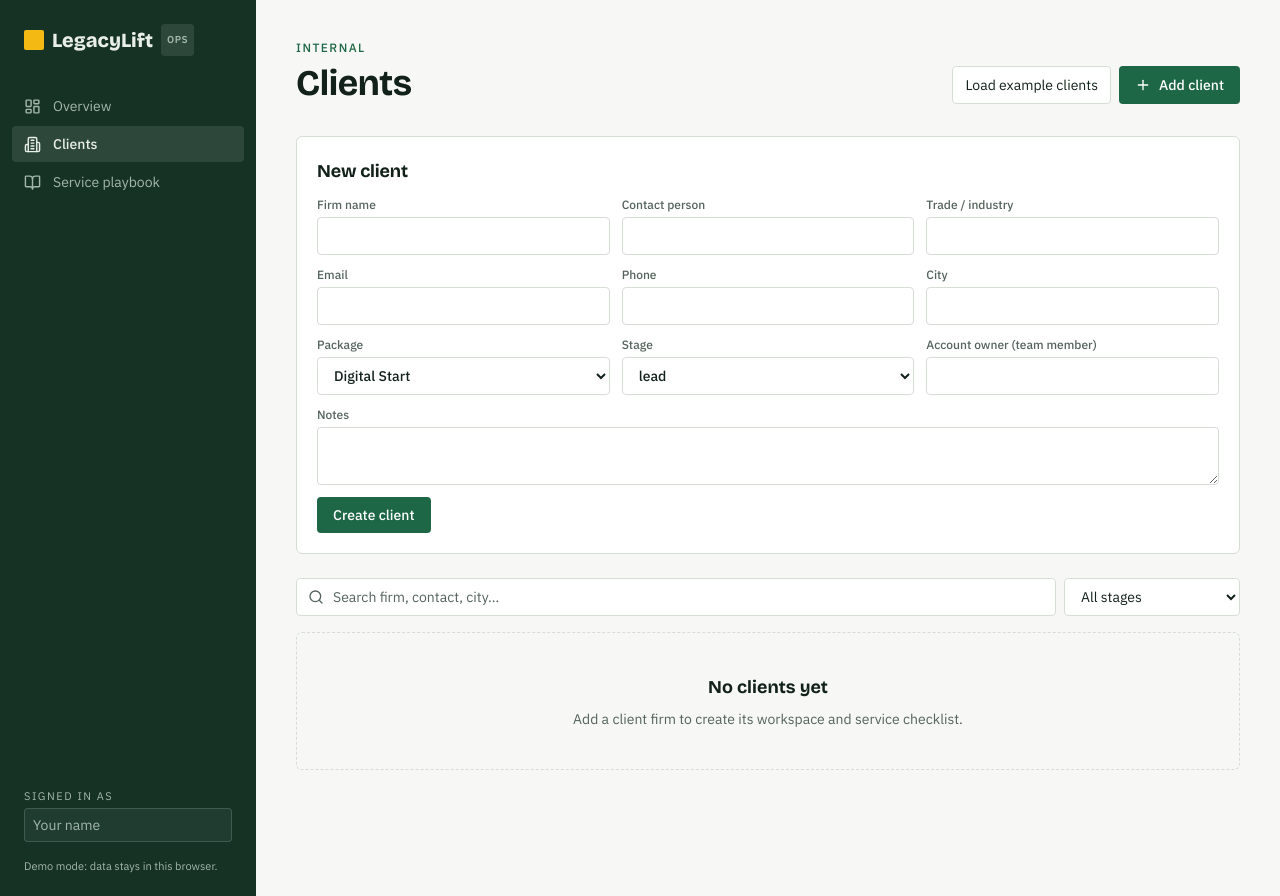
Test: operations console › keeps each client's data in its own workspace
Type "Uhrmacher Klein" into the field labelled "Firm name" at (463, 236), box x1=317 y1=217 x2=610 y2=255
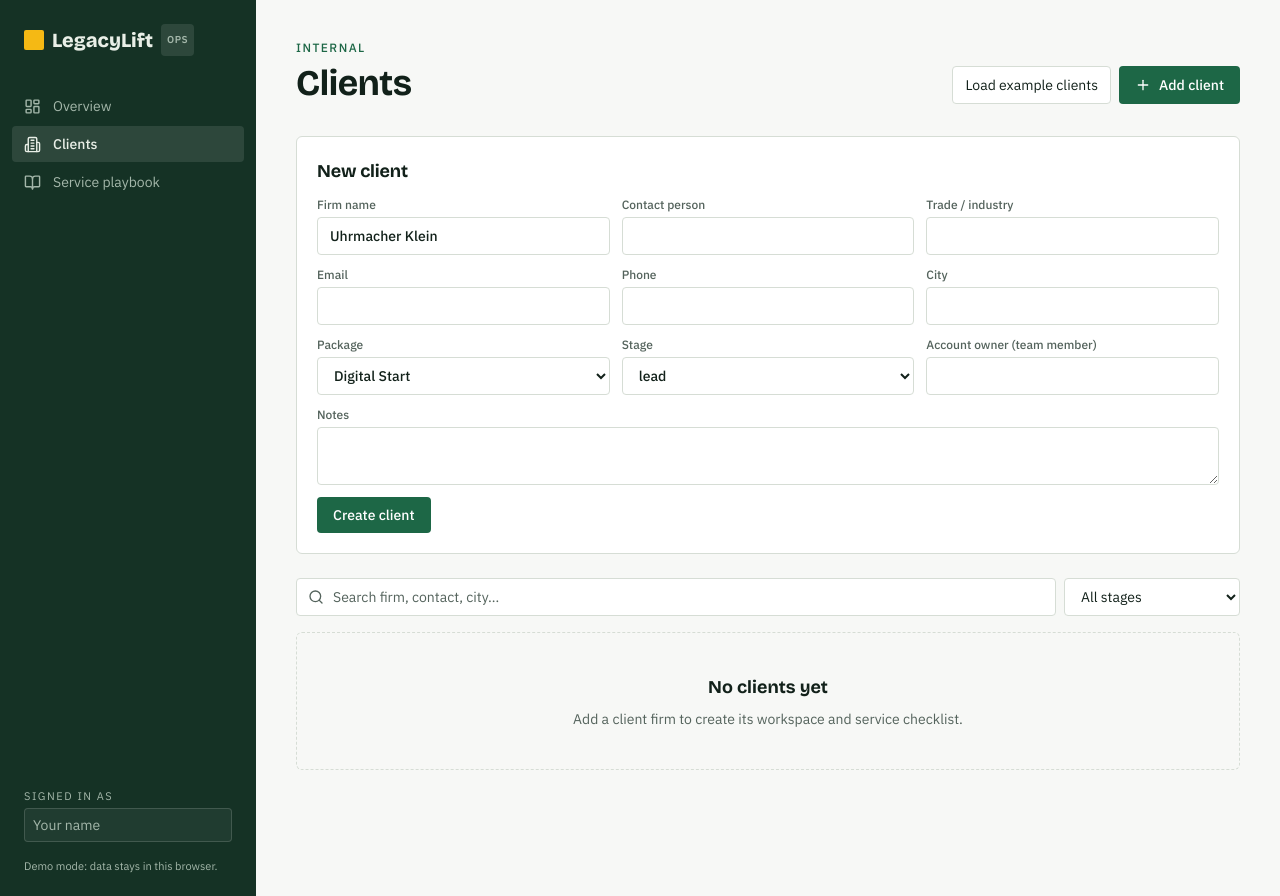
Click the button "Create client" at (374, 515), box x1=317 y1=497 x2=430 y2=533
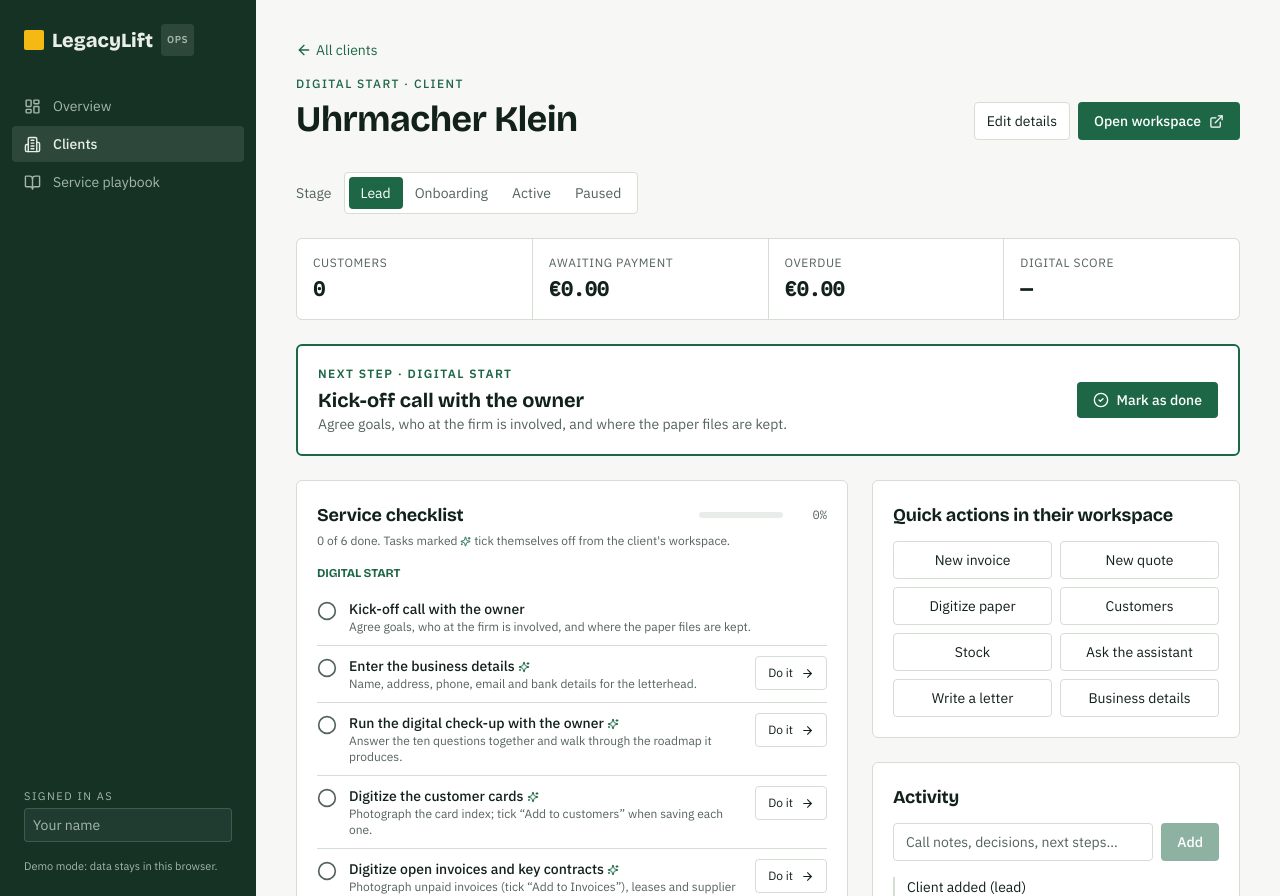
Expected: the heading "Uhrmacher Klein" is shown, x1=296 y1=100 x2=578 y2=140
